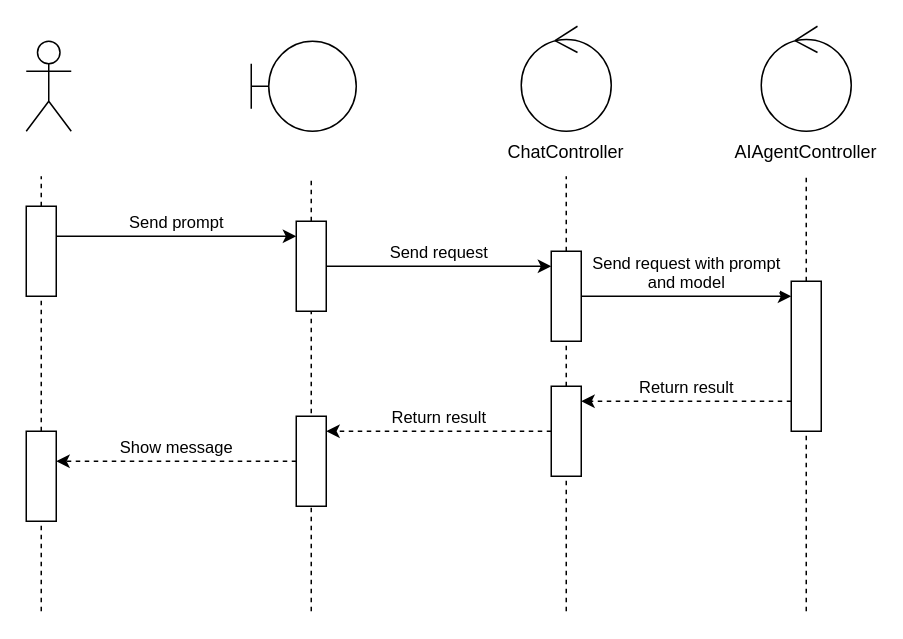
Image size: 903x639. Some labels were removed from this diagram. Each missing label, with the centre of its shape:
"ChatForm" belongs at [303,85].
"User" belongs at [48,85].
